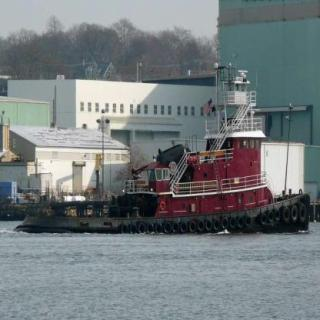Tug Boat: (58, 118, 308, 234)
